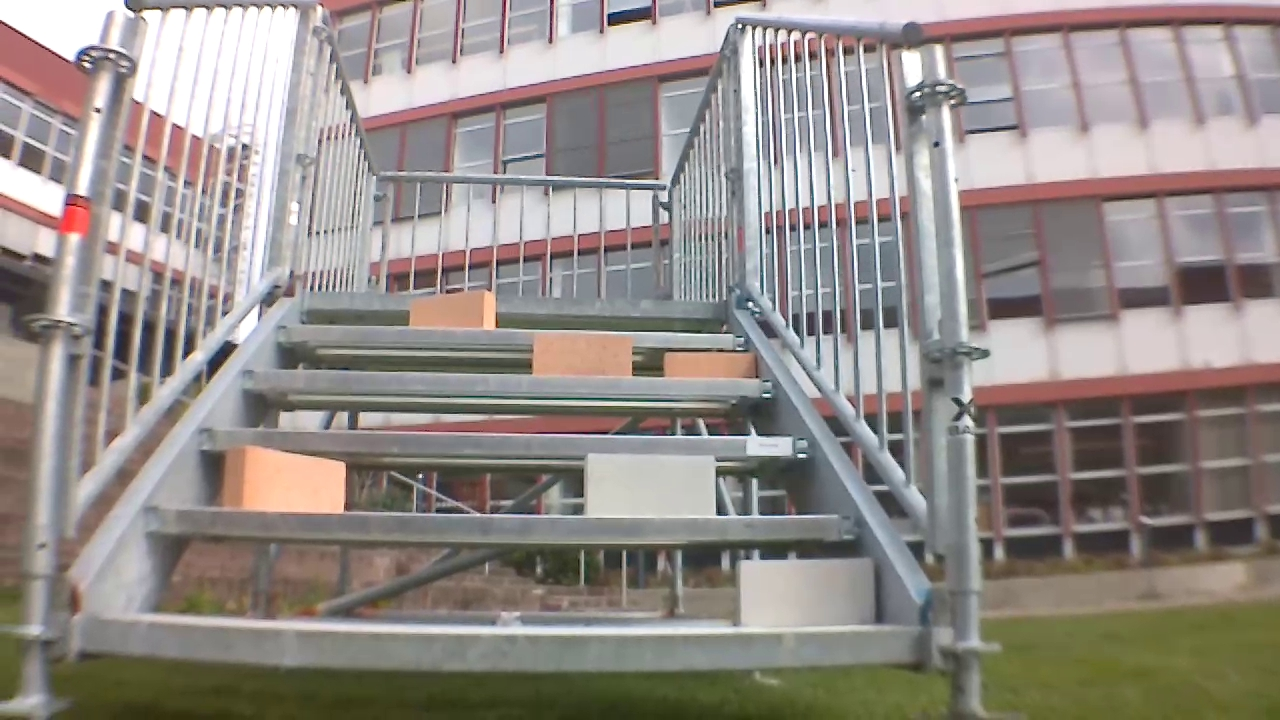brick: (736, 559, 875, 625), (584, 453, 714, 516), (224, 447, 345, 513), (534, 332, 632, 374), (409, 291, 494, 328), (665, 353, 754, 376)
edge: (81, 612, 922, 667), (142, 503, 858, 541), (197, 427, 811, 460), (240, 368, 775, 398), (302, 290, 725, 320), (278, 324, 746, 350)
stairs: (7, 4, 1003, 718)
steps: (74, 286, 927, 675)
